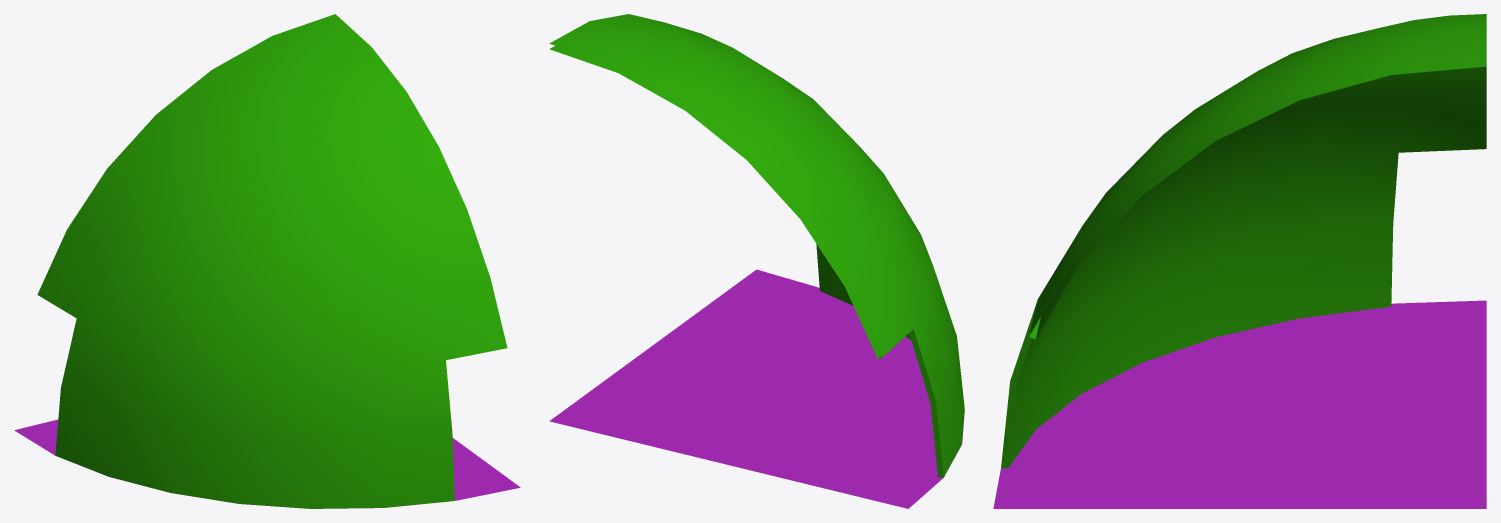
Rendered from Module_Sphere_2portes_000.fbx.
3 renders of one model, left to right at view 1: azimuth 30°, elevation 25°; view 2: azimuth 150°, elevation 25°; view 3: azimuth 270°, elevation 25°, orthographic. The views are drawn at different scales.
Visible parts, largest first — view 1: serre_portedouble_002; view 2: serre_portedouble_002; view 3: serre_portedouble_002.
Boxes of the visible parts, x1,y1,x2,y2 form: serre_portedouble_002: (14, 14, 520, 508); serre_portedouble_002: (549, 14, 964, 508); serre_portedouble_002: (993, 14, 1486, 508).
Size of the model in its own units: 800 by 804 by 800.
